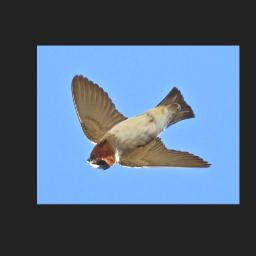Swallow: (69, 73, 213, 170)
